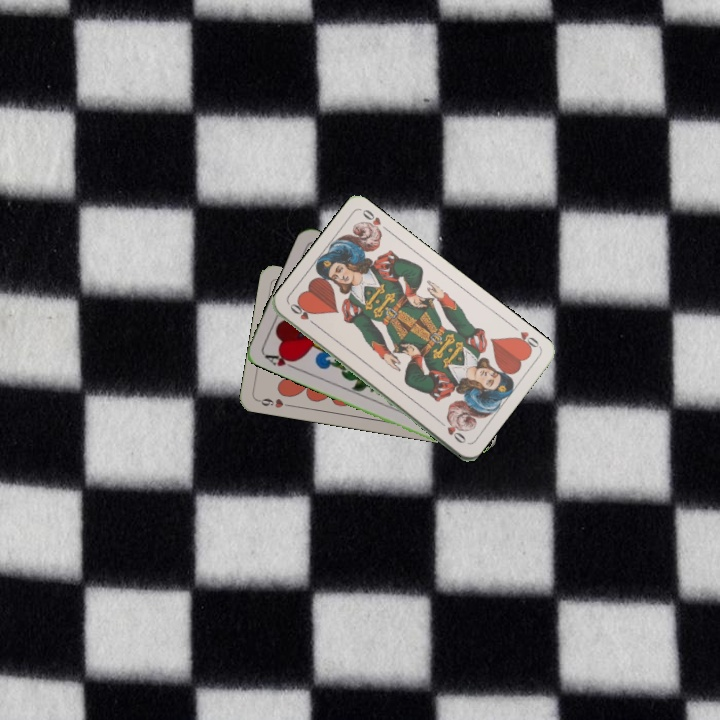H9: (254, 394, 294, 411)
HA: (261, 348, 300, 372)
HO: (508, 321, 543, 355), (286, 299, 320, 329)
